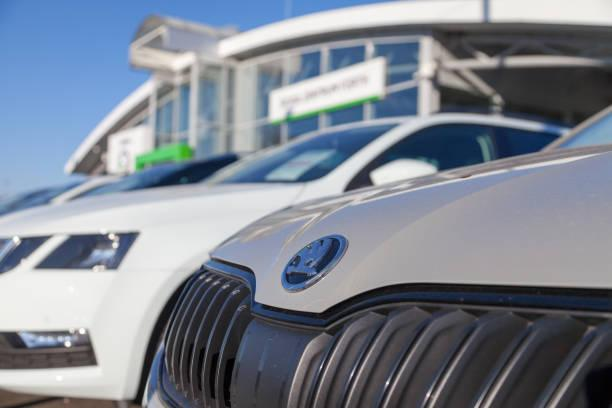skoda: (278, 228, 351, 297)
